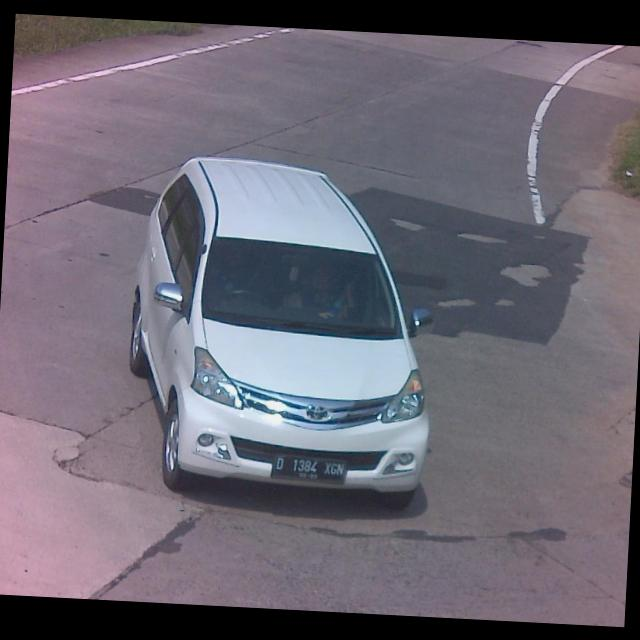plate: (267, 450, 350, 482)
